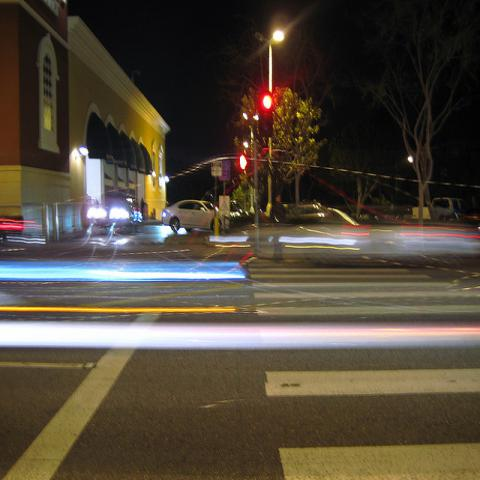car: (81, 193, 146, 230), (161, 198, 226, 234), (431, 196, 472, 221), (202, 200, 230, 229), (300, 203, 334, 223), (326, 208, 361, 226)
